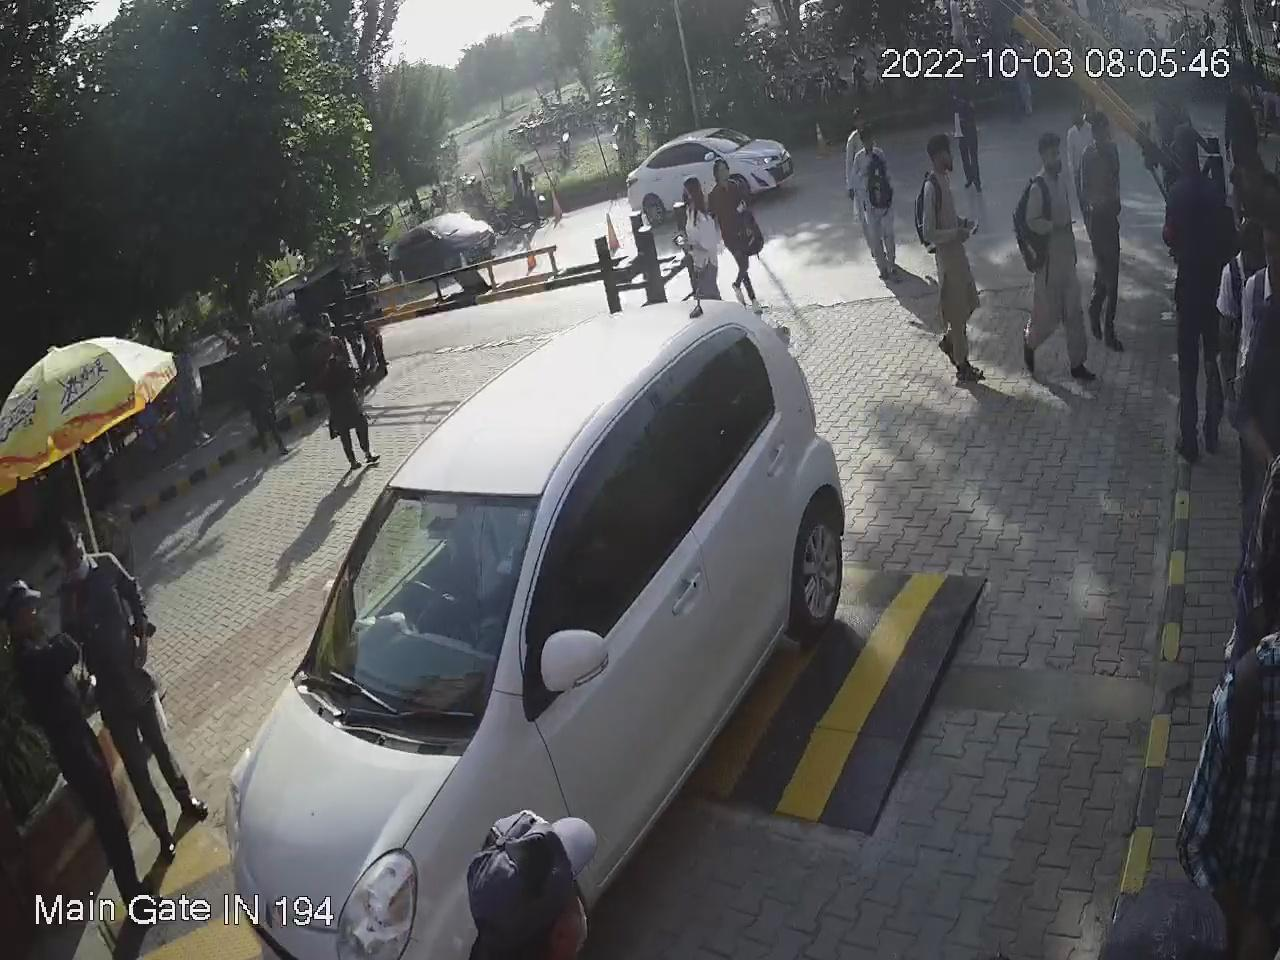windshield: (290, 480, 548, 755)
